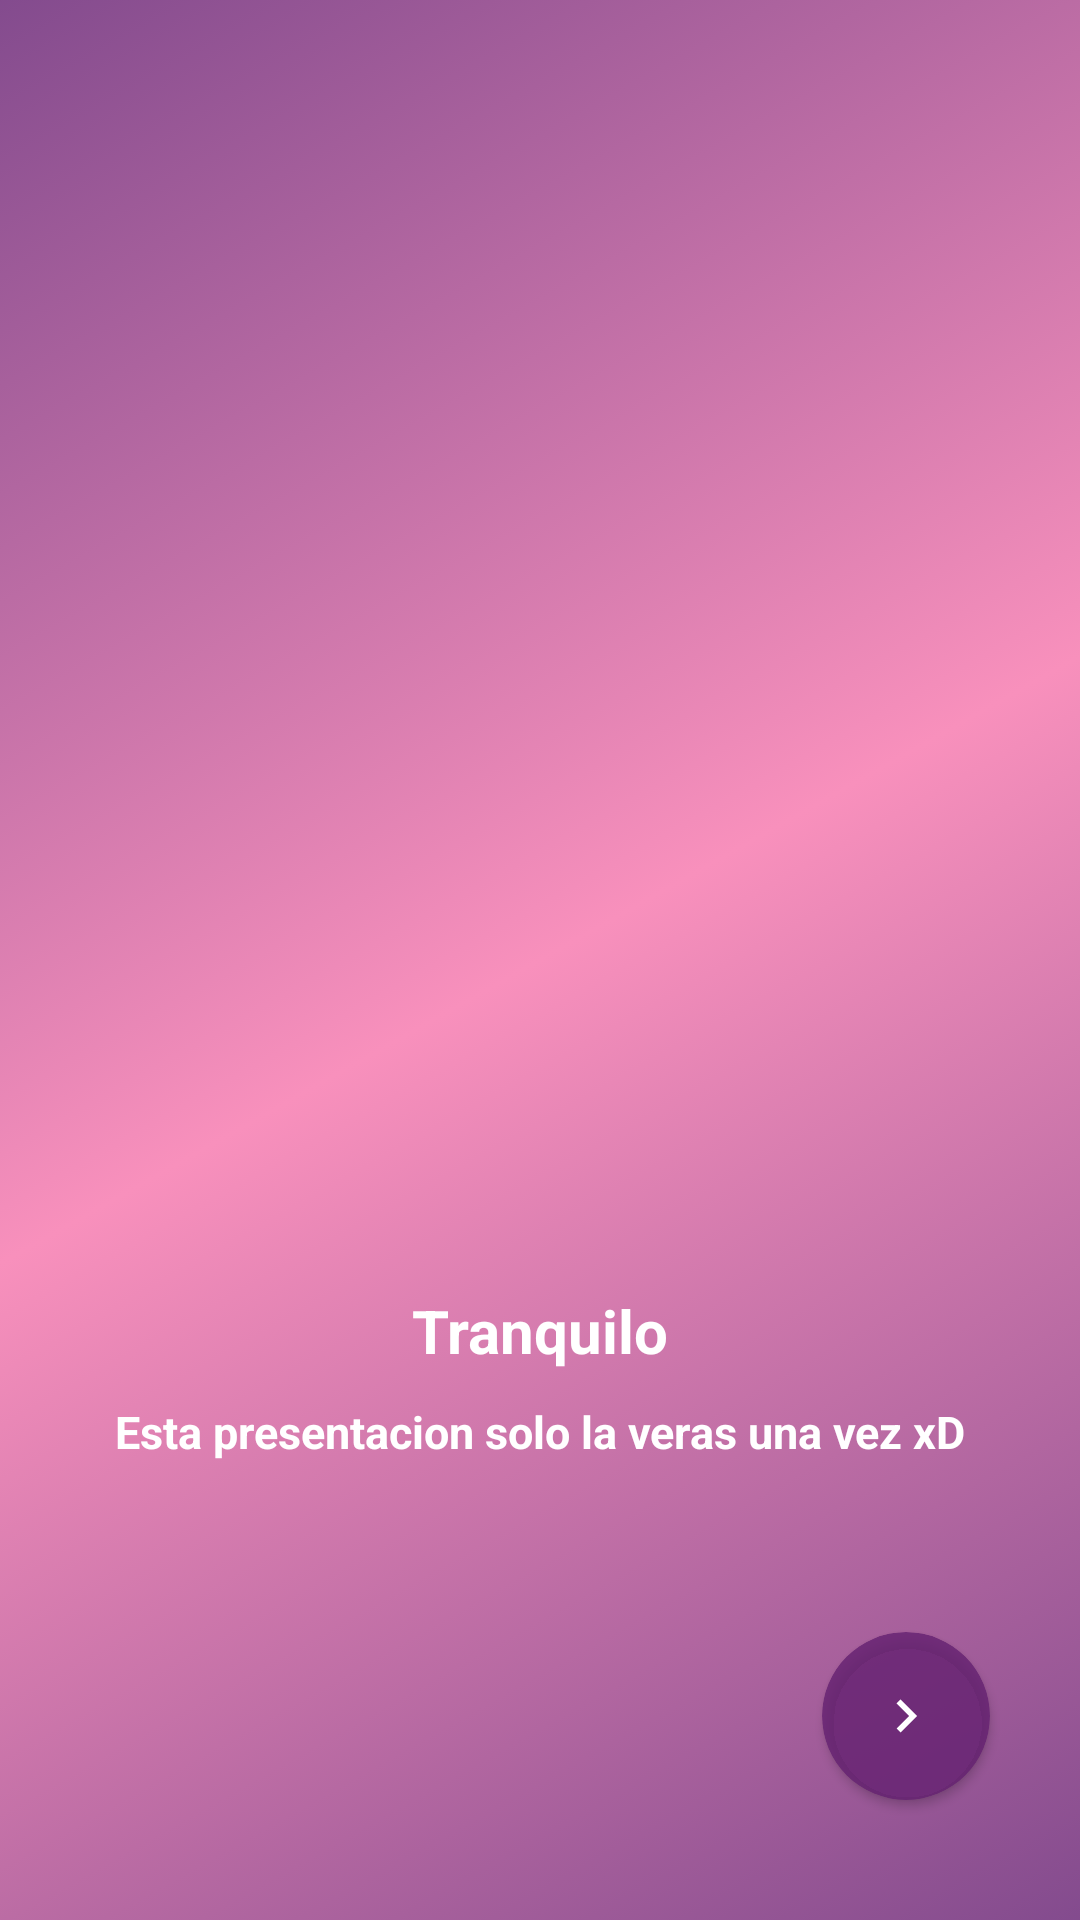

Where to tap for icons on this 1080x1920 app screen, as (x,y):
keyboard arrow right: (906,1716)
